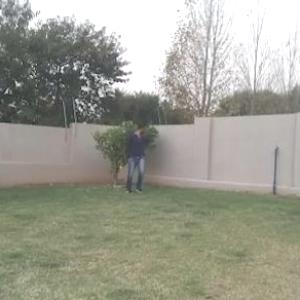follow: (126, 118, 146, 197)
